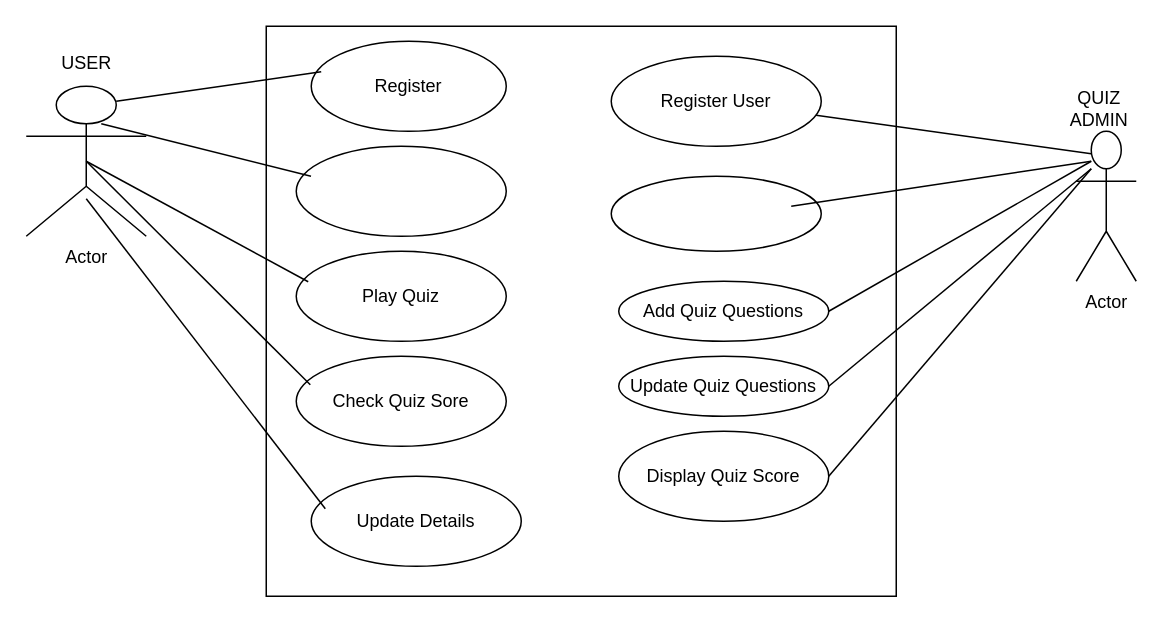
Some shapes in this 1170 by 623 pixel diagram are drawn without their labels. The centre of each missing label's shape, as x and y in pixels:
"Check Registeration details" goes at [715,213].
"Login" goes at [400,190].
